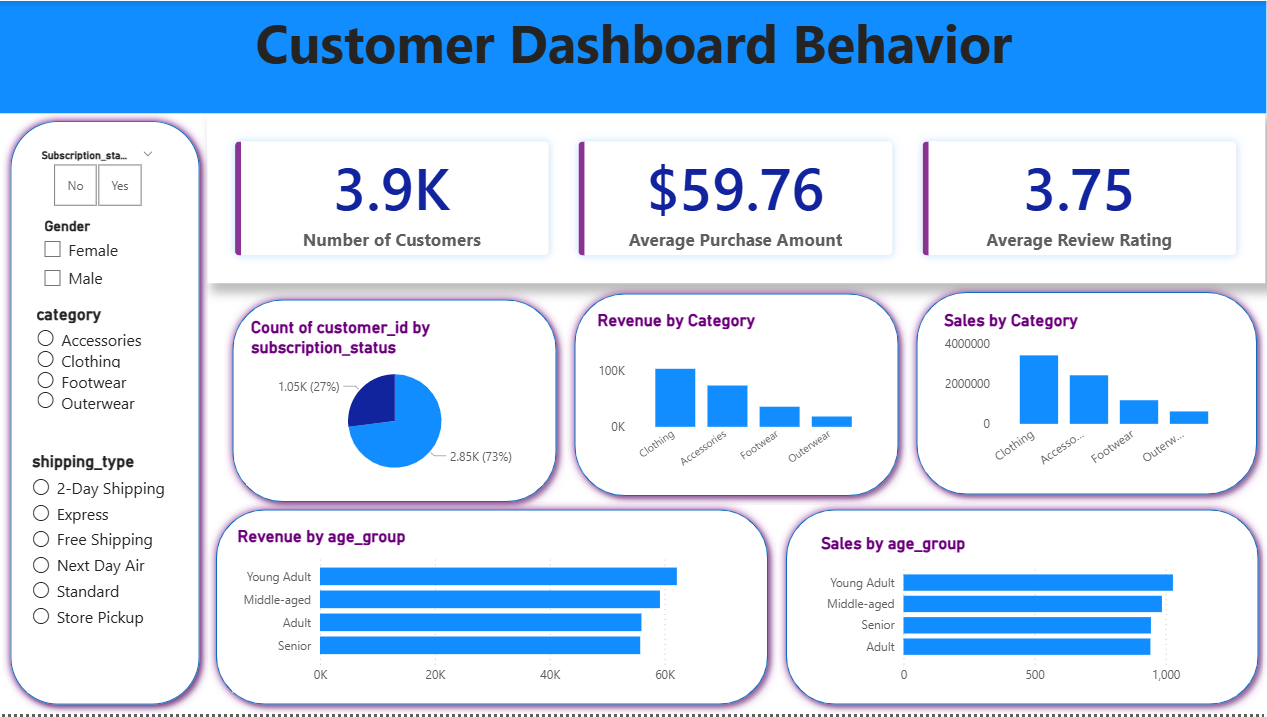

Layout of this report page (visuals, bound fields, positions):
{"tool":"powerbi","page":{"name":"Page 1","canvas":[1280,720],"ordinal":0},"visuals":[{"type":"cardVisual","fields":{"Data":["public customer.Number of Customers","public customer.Average Purchase Amount","public customer.Average Review Rating"]},"box":[209,113.6,1069,171.1],"z":0},{"type":"textbox","box":[0,0,1279.5,113.6],"z":1000},{"type":"shape","box":[1.5,112.1,209,607.2],"z":2000},{"type":"shape","box":[209,292.2,345.2,222.6],"z":3000},{"type":"pieChart","fields":{"Category":["public customer.subscription_status"],"Y":["CountNonNull(public customer.customer_id)"]},"box":[231.7,319.5,299.8,169.6],"z":4000},{"type":"shape","box":[570.9,281.6,345.2,222.6],"z":5000},{"type":"shape","box":[932.8,281.6,345.2,222.6],"z":6000},{"type":"shape","box":[196.8,513.3,587.5,205.9],"z":7000},{"type":"slicer","fields":{"Values":["public customer.subscription_status"]},"box":[28.8,143.8,137.8,69.7],"z":10000},{"type":"listSlicer","fields":{"Values":["public customer.category"]},"box":[31.8,305.9,145.4,198.4],"z":10002},{"type":"listSlicer","fields":{"Values":["public customer.shipping_type"]},"box":[27.3,454.3,156,243.8],"z":10003},{"type":"clusteredBarChart","title":"Revenue by age_group","fields":{"Y":["Sum(public customer.purchase_amount)"],"Category":["public customer.age_group"]},"box":[251.4,530,508.8,168.1],"z":10004},{"type":"shape","box":[790.4,513.3,489.1,205.9],"z":10005},{"type":"clusteredBarChart","title":"Sales by age_group","fields":{"Y":["Sum(public customer.purchase_amount)"],"Category":["public customer.age_group"]},"box":[823.7,537.5,425.5,160.5],"z":10006},{"type":"clusteredColumnChart","title":"Revenue by Category","fields":{"Category":["public customer.category"],"Y":["Sum(public customer.purchase_amount)"]},"box":[593.6,308.9,289.2,169.6],"z":10007},{"type":"clusteredColumnChart","title":"Sales by Category","fields":{"Category":["public customer.category"],"Y":["Sum(public customer.customer_id)"]},"box":[957,308.9,298.3,169.6],"z":10008},{"type":"slicer","fields":{"Values":["public customer.gender"]},"box":[31.8,213.5,133.3,92.4],"z":10009}]}

Visuals, with their boxes in screenshot pixels (x1, y1, x2, y2), scaled from the page's 1280x720 canvas onto the 1267x717 screenshot:
cardVisual - public customer.Number of Customers x public customer.Average Purchase Amount: <bbox>207, 113, 1265, 284</bbox>
textbox: <bbox>0, 0, 1266, 113</bbox>
shape: <bbox>1, 112, 208, 716</bbox>
shape: <bbox>207, 291, 549, 513</bbox>
pieChart - public customer.subscription_status x CountNonNull(public customer.customer_id): <bbox>229, 318, 526, 487</bbox>
shape: <bbox>565, 280, 907, 502</bbox>
shape: <bbox>923, 280, 1265, 502</bbox>
shape: <bbox>195, 511, 776, 716</bbox>
slicer - public customer.subscription_status: <bbox>29, 143, 165, 213</bbox>
listSlicer - public customer.category: <bbox>31, 305, 175, 502</bbox>
listSlicer - public customer.shipping_type: <bbox>27, 452, 181, 695</bbox>
"Revenue by age_group" clusteredBarChart: <bbox>249, 528, 752, 695</bbox>
shape: <bbox>782, 511, 1266, 716</bbox>
"Sales by age_group" clusteredBarChart: <bbox>815, 535, 1237, 695</bbox>
"Revenue by Category" clusteredColumnChart: <bbox>588, 308, 874, 477</bbox>
"Sales by Category" clusteredColumnChart: <bbox>947, 308, 1243, 477</bbox>
slicer - public customer.gender: <bbox>31, 213, 163, 305</bbox>
